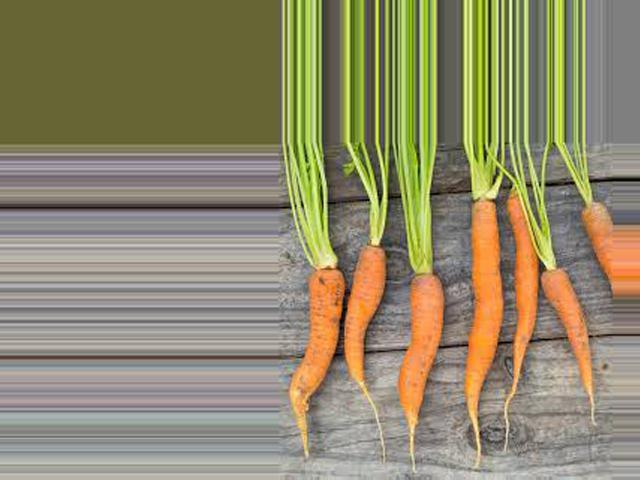carrot: (565, 169, 614, 265)
